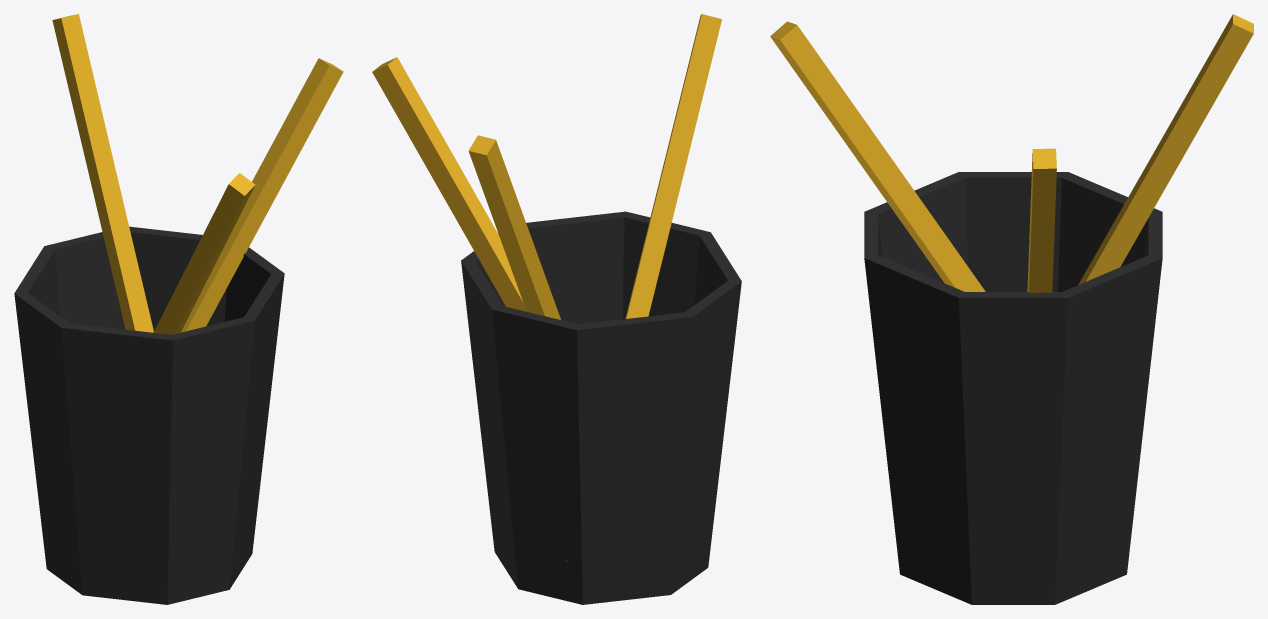
File: PencilHolder.fbx
The picture shows the model from 3 angles, left to right: view 1: azimuth 30°, elevation 25°; view 2: azimuth 150°, elevation 25°; view 3: azimuth 270°, elevation 25°; orthographic projection. The views are drawn at different scales.
Visible parts, largest first — view 1: Cube.001; view 2: Cube.001; view 3: Cube.001.
Boxes of the visible parts, x1,y1,x2,y2 form: Cube.001: (14,14,343,604); Cube.001: (372,14,741,604); Cube.001: (770,14,1253,604).
Size of the model in its own units: 35.43 by 50.86 by 40.78.
